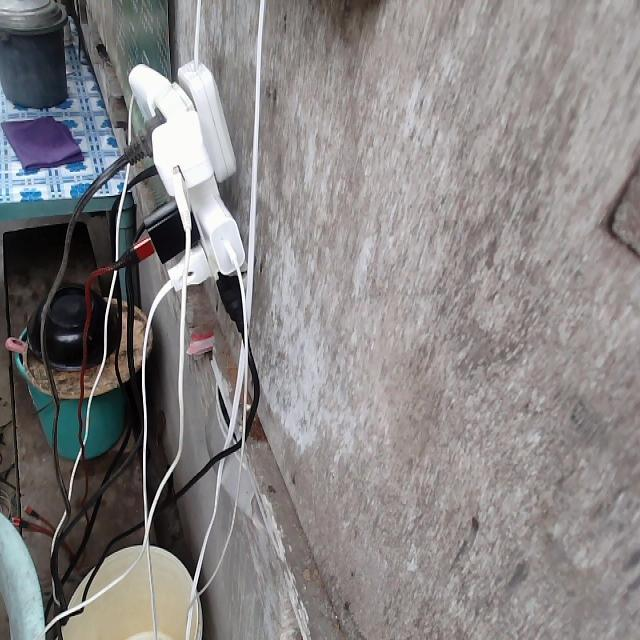-: (126, 57, 247, 316)
